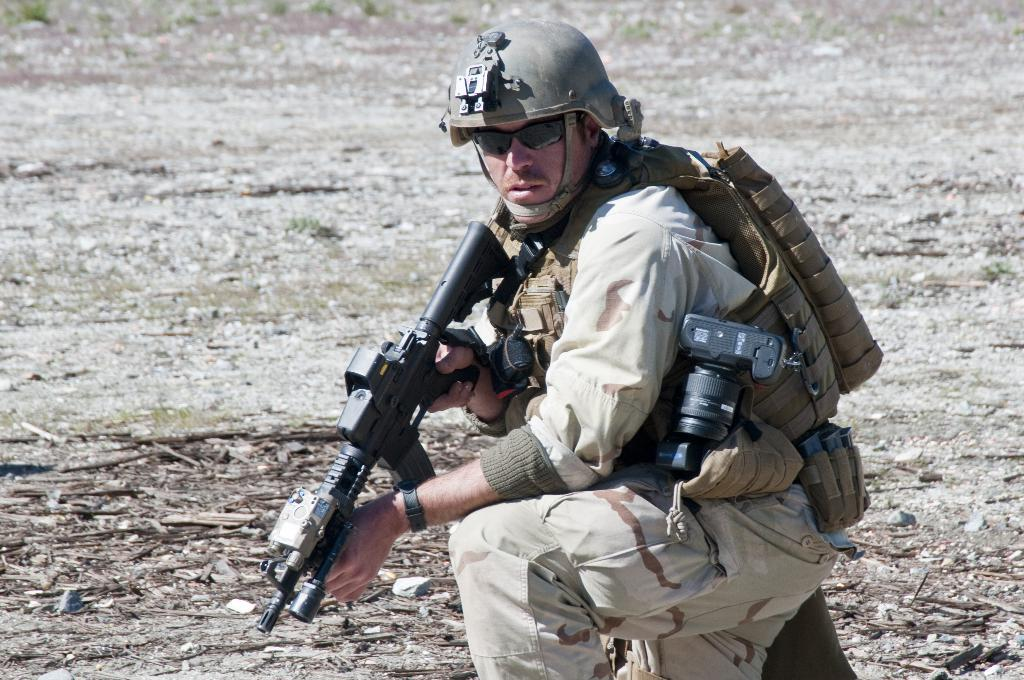Rifle: (268, 232, 563, 635)
